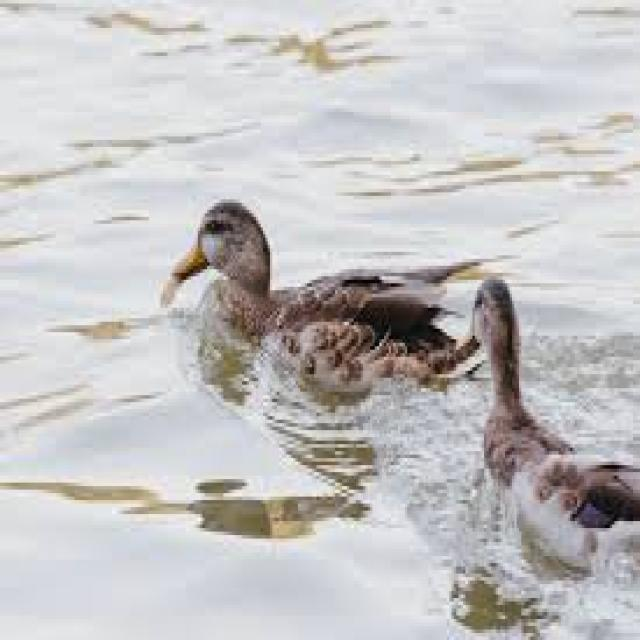Duck: (148, 183, 482, 422), (455, 263, 640, 605)
